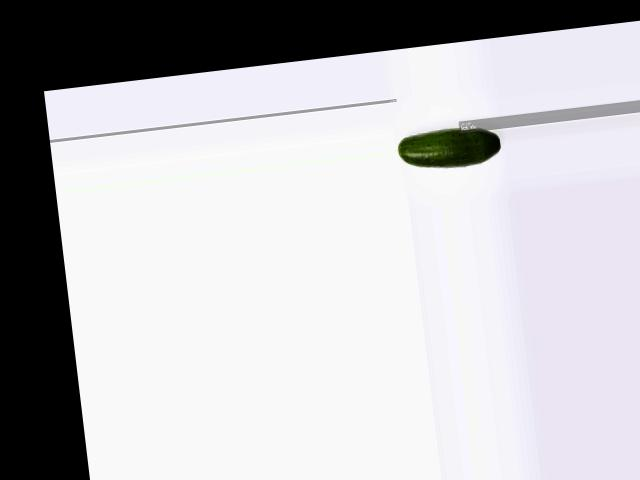cucumber: (395, 122, 504, 174)
